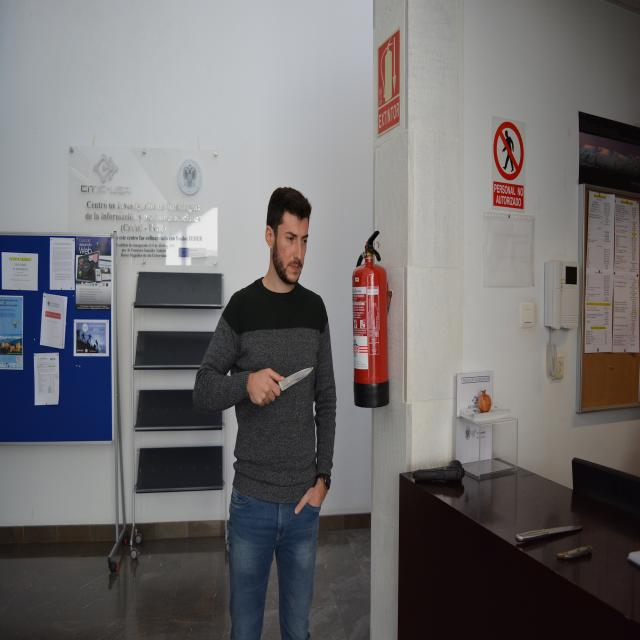knife: (278, 362, 321, 392)
